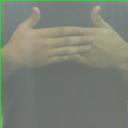hand: (0, 7, 94, 68), (75, 6, 127, 69)
